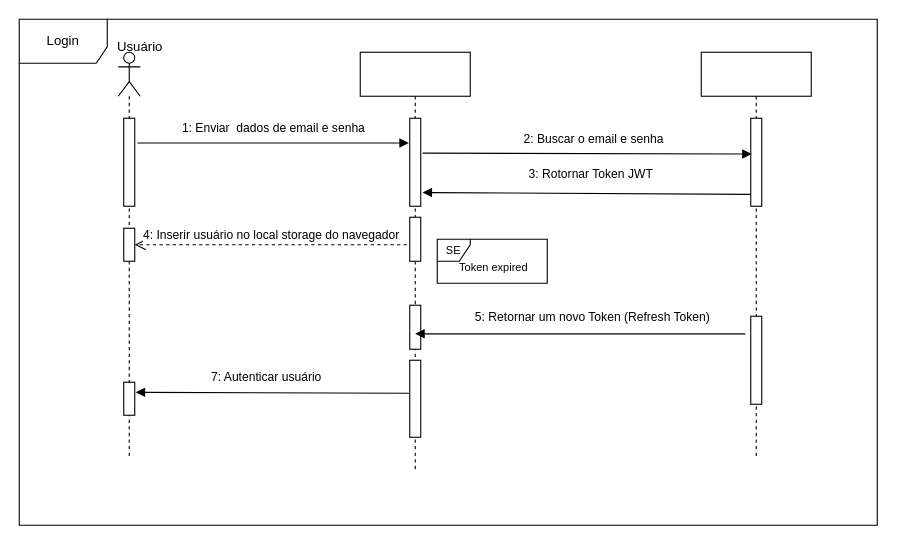
Image size: 897x545. Some labels were removed from this diagram. The shapes that lost their labels are listed below. From the top down, each one's box as (x1, y1, x2, y2) in pixels, then its label:
(359, 51, 470, 470): Sistema
(700, 51, 811, 459): Banco de Dados
